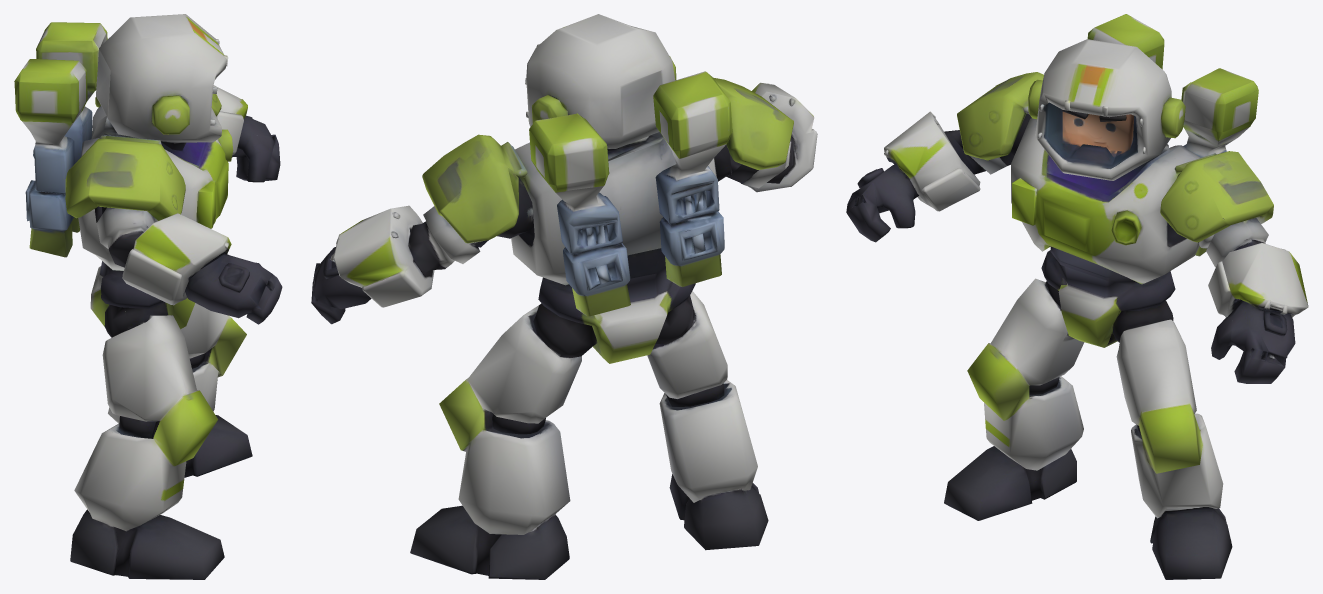
The model's file is ranger.glb.
3 renders of one model, left to right at view 1: azimuth 30°, elevation 25°; view 2: azimuth 150°, elevation 25°; view 3: azimuth 270°, elevation 25°, orthographic. The views are drawn at different scales.
Visible parts, largest first — view 1: tripo_node_fbbfe022-a053-49a1-8bb8-d9e0be352d7c; view 2: tripo_node_fbbfe022-a053-49a1-8bb8-d9e0be352d7c; view 3: tripo_node_fbbfe022-a053-49a1-8bb8-d9e0be352d7c.
Part boxes in pixels (box(x1,y1,x2,y2)): tripo_node_fbbfe022-a053-49a1-8bb8-d9e0be352d7c: box(14, 14, 282, 579); tripo_node_fbbfe022-a053-49a1-8bb8-d9e0be352d7c: box(311, 14, 817, 579); tripo_node_fbbfe022-a053-49a1-8bb8-d9e0be352d7c: box(846, 14, 1308, 579).
Bounding box in the file's own units: 0.709 × 0.998 × 0.8887.
1 material, 1 textured.
